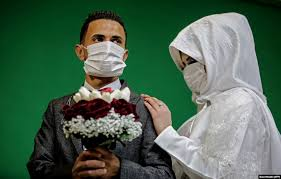mask: (176, 37, 224, 107), (81, 20, 127, 77)
